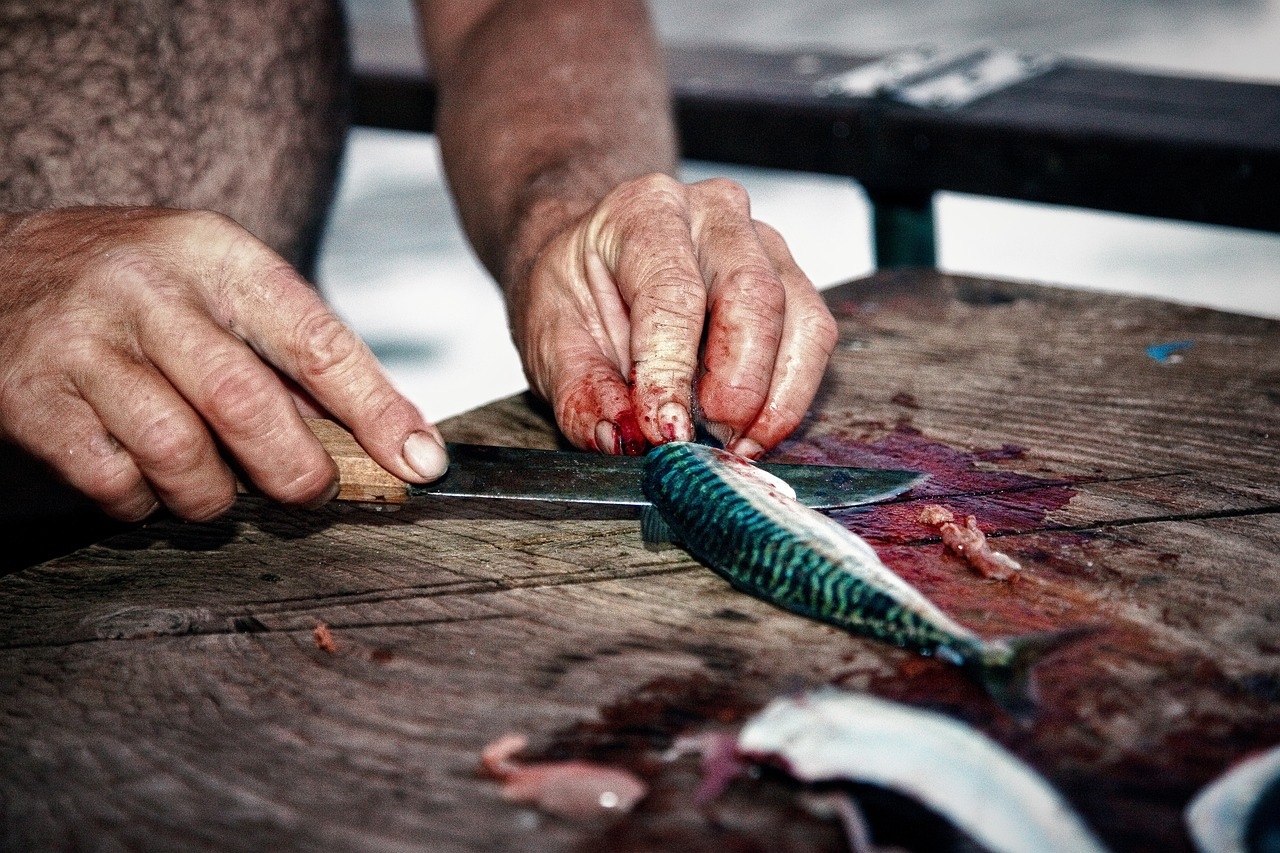blood: (449, 392, 1280, 853), (532, 294, 803, 468), (707, 446, 804, 523)
knife: (132, 439, 956, 515)
